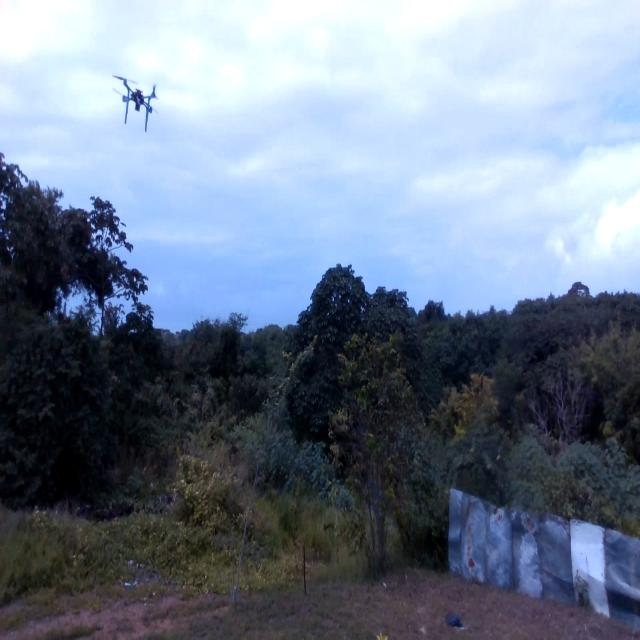-uav-: (108, 62, 162, 139)
